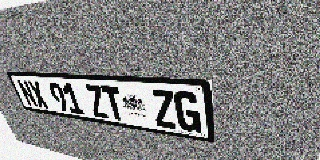1: (60, 83, 85, 115)
9: (47, 82, 71, 113)
G: (173, 91, 201, 133)
N: (16, 80, 39, 108)
T: (100, 86, 127, 121)
X: (27, 80, 50, 109)
Z: (150, 89, 178, 129), (84, 84, 110, 119)
